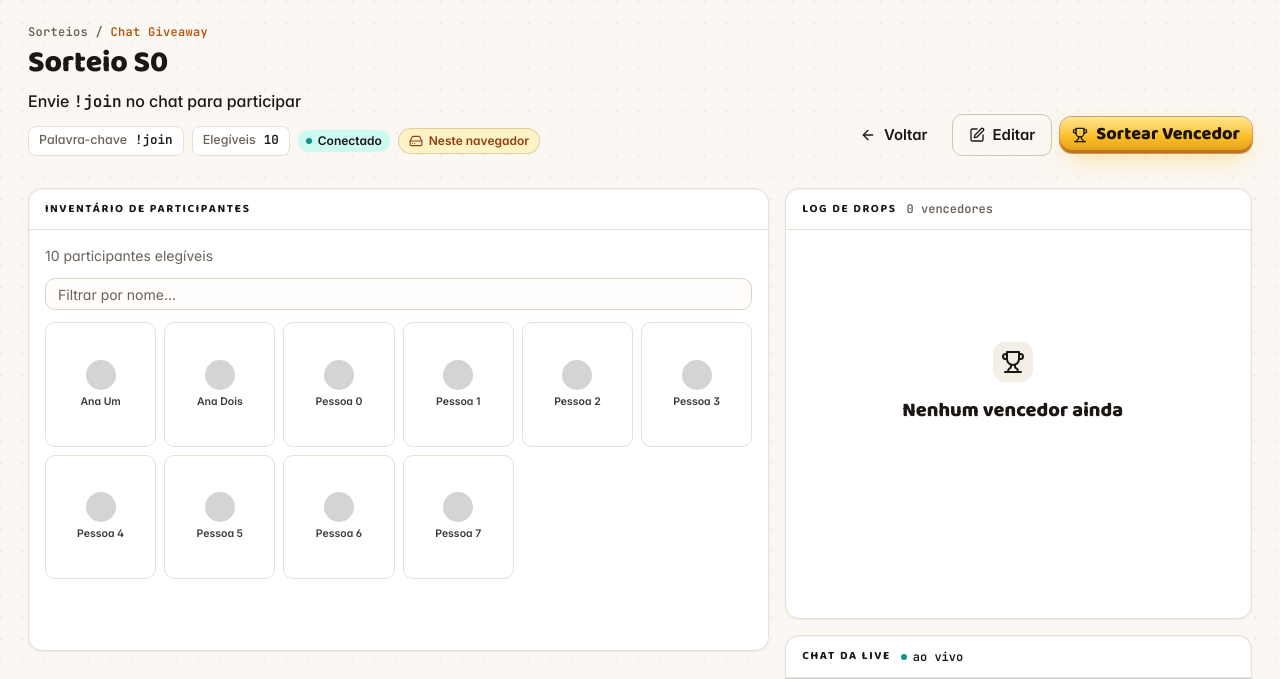
Test: página do Chat Giveaway › CA-C3: a contagem distingue filtrados e elegíveis
The width and height of the screenshot is (1280, 679).
Expected: the text "10 participantes elegíveis" is shown, [45,247,213,264]
Expected: the text "O sorteio considera todos os elegíveis, não só os filtrados" is not shown
Type "ana" into the field labelled "Filtrar por nome..." at (399, 294), box [45,278,752,310]
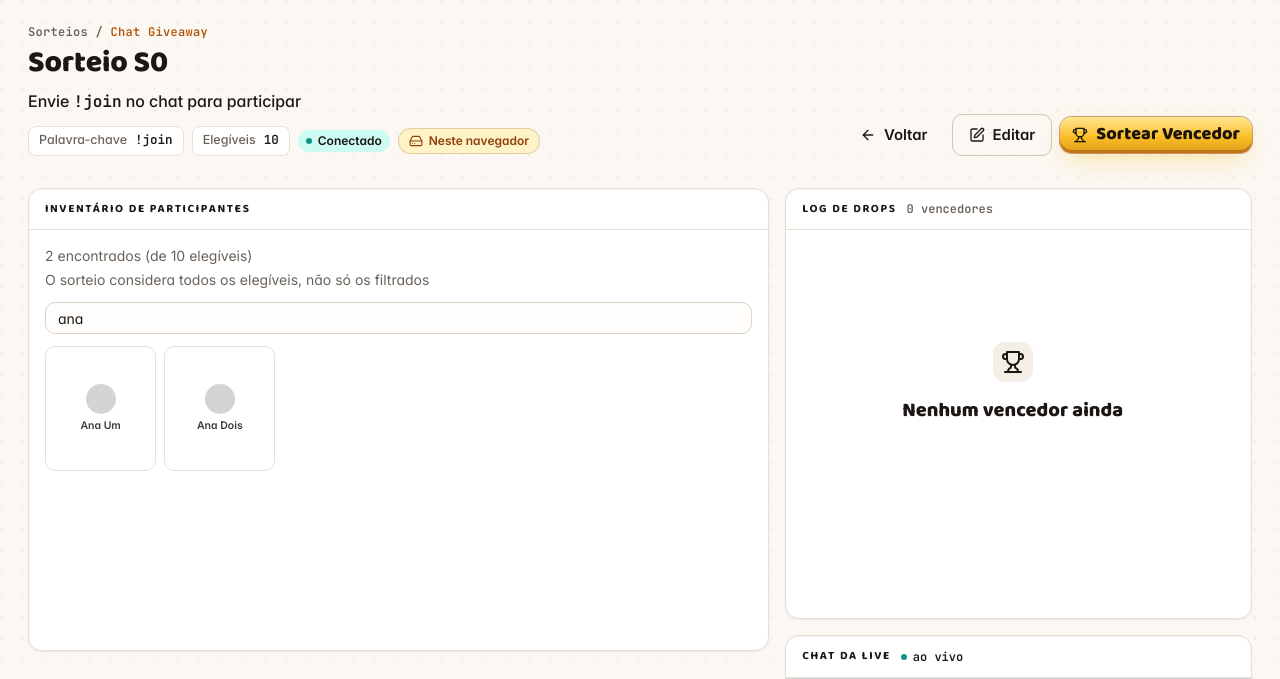
Now the text "2 encontrados (de 10 elegíveis)" is shown, box [45,247,252,264]
Now the text "O sorteio considera todos os elegíveis, não só os filtrados" is shown, box [45,271,429,288]
Now the text "Pessoa 0" is gone
